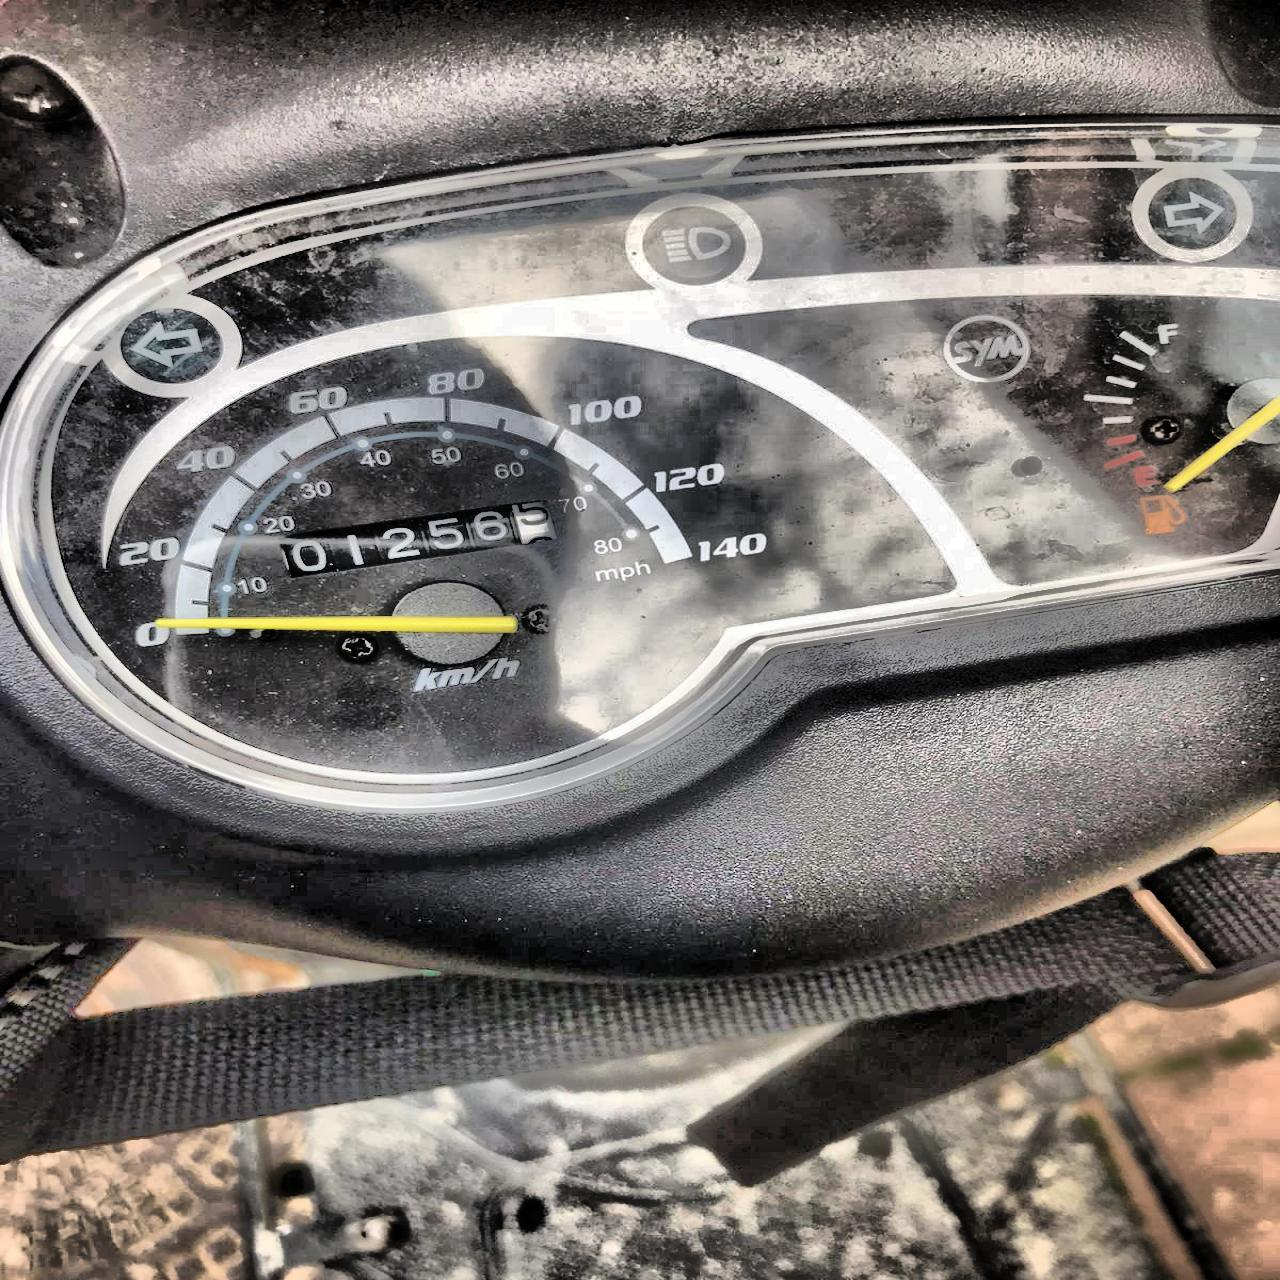0: (290, 538, 329, 572), (279, 513, 295, 532)
1: (342, 532, 370, 567)
2: (380, 526, 421, 559)
5: (427, 516, 465, 550), (516, 497, 552, 526)
6: (471, 508, 510, 543)
odometer: (274, 495, 561, 580)
